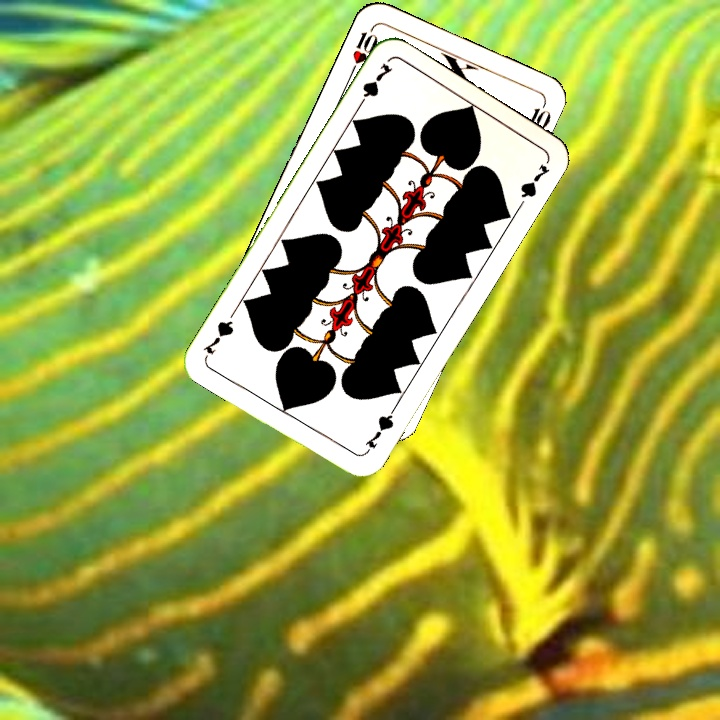G7: (353, 59, 396, 112), (360, 404, 398, 457)
H10: (346, 22, 381, 78)
